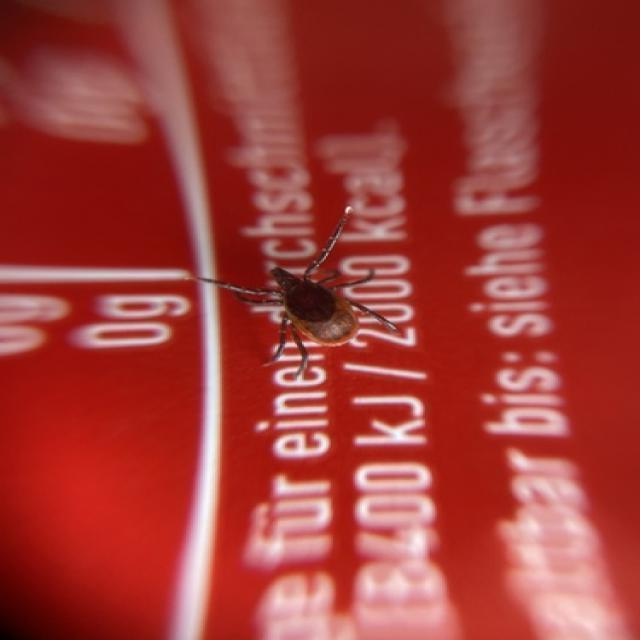Ixodes Ricinus-F: (203, 205, 398, 384)
